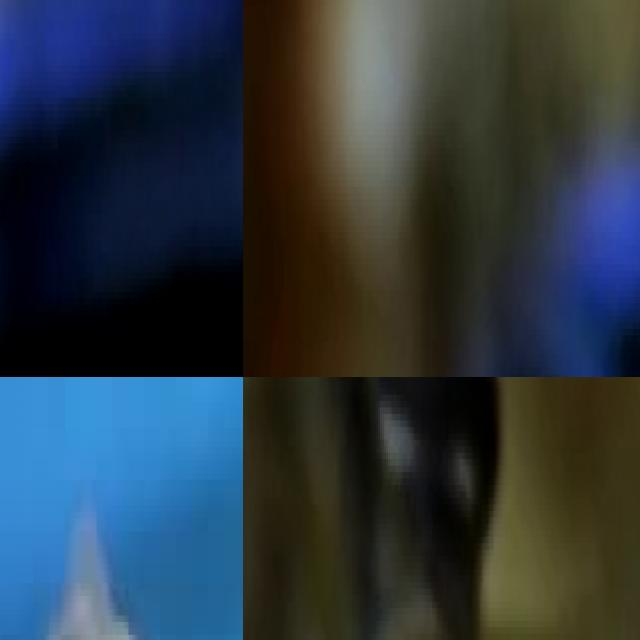fish: (0, 0, 243, 377), (262, 377, 515, 640)
